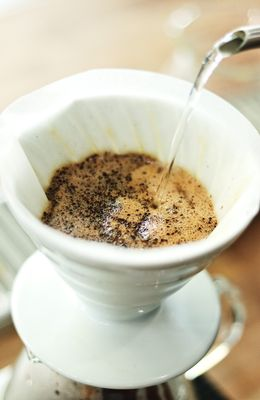pizza: (0, 31, 260, 322)
sushi: (0, 62, 260, 326)
